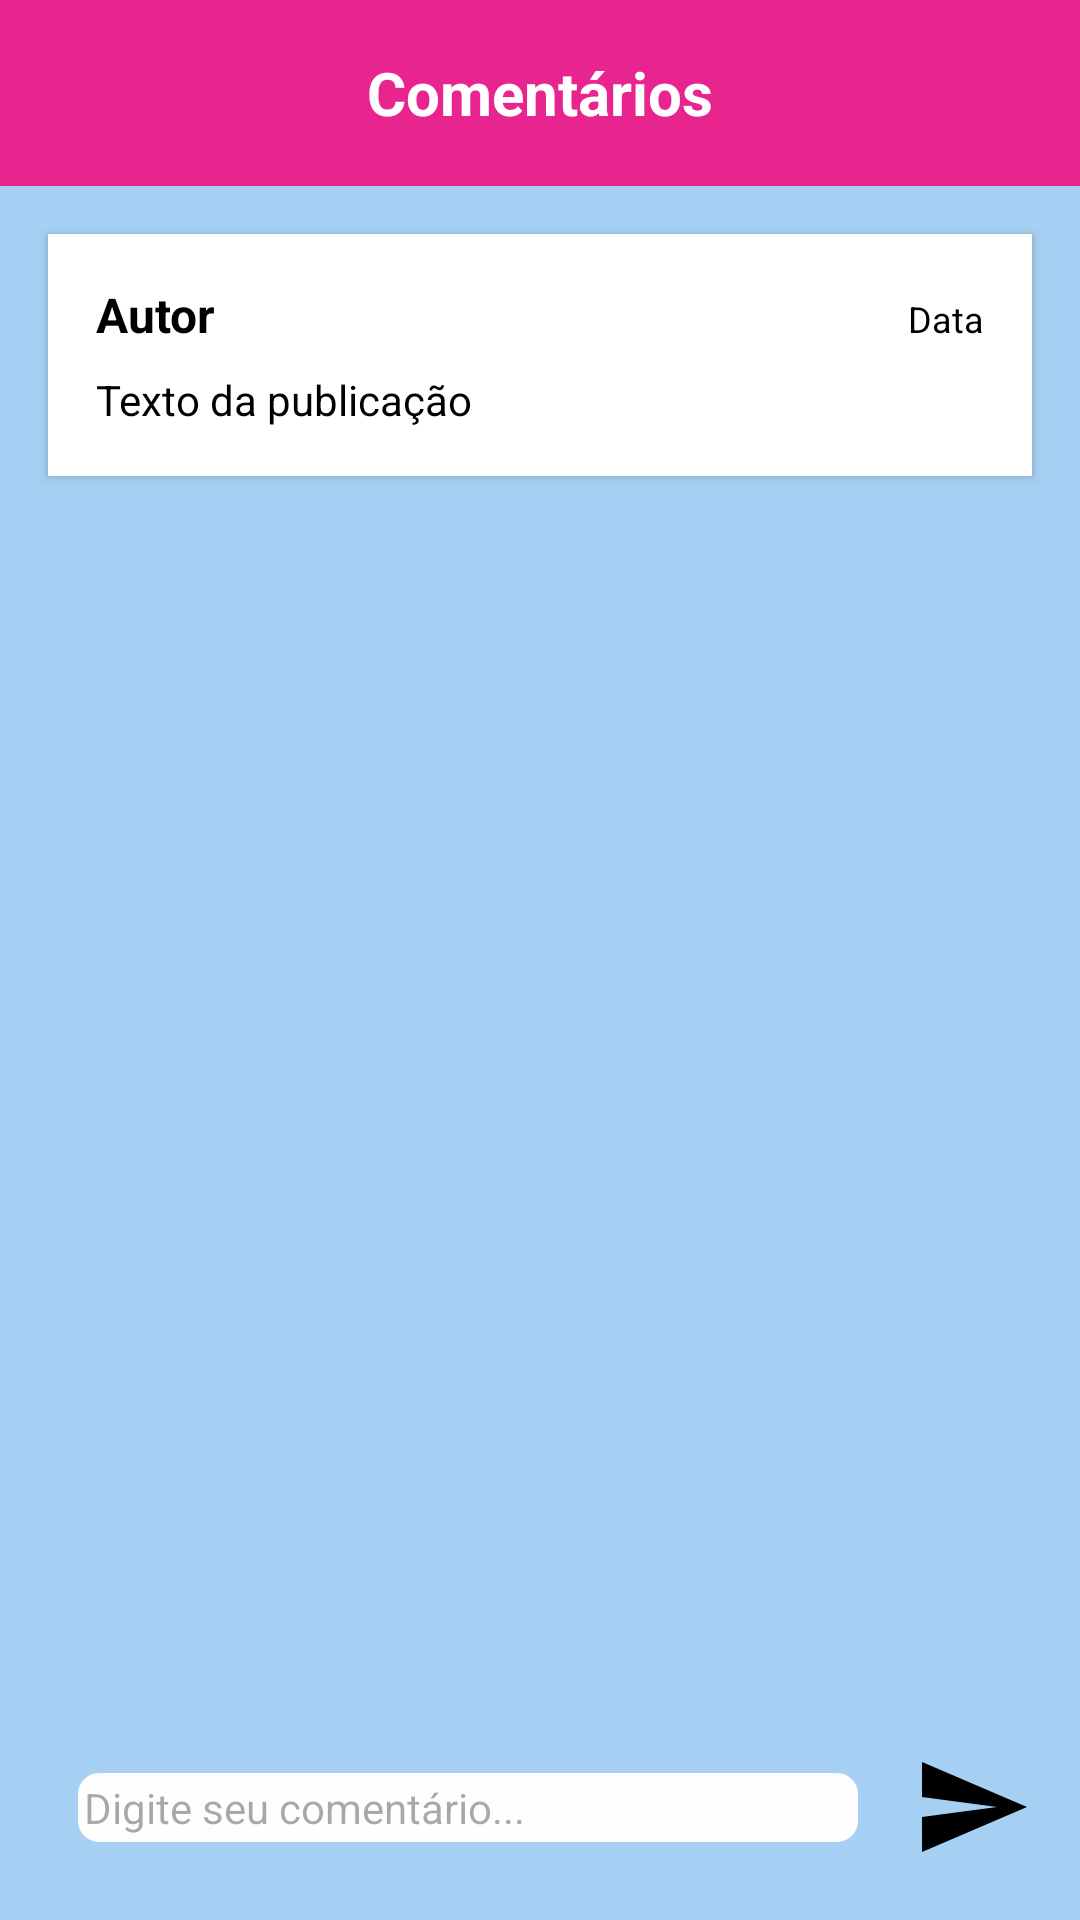

Named icons in this screenshot (1080*1920) and their bounding boxes, (x1, y1, x2, y2):
send: (922, 1762, 1027, 1852)
